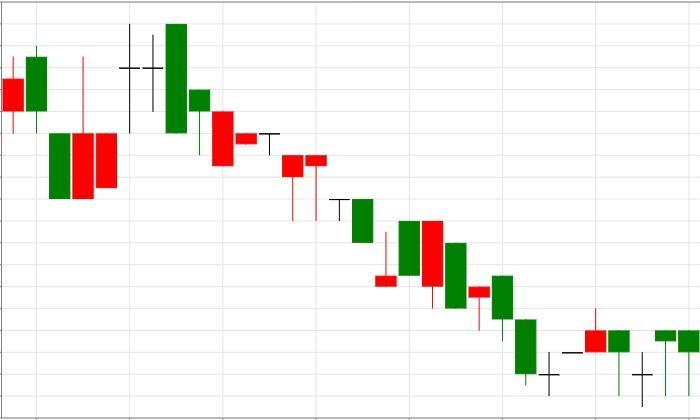hammer_rise: (118, 23, 304, 221)
